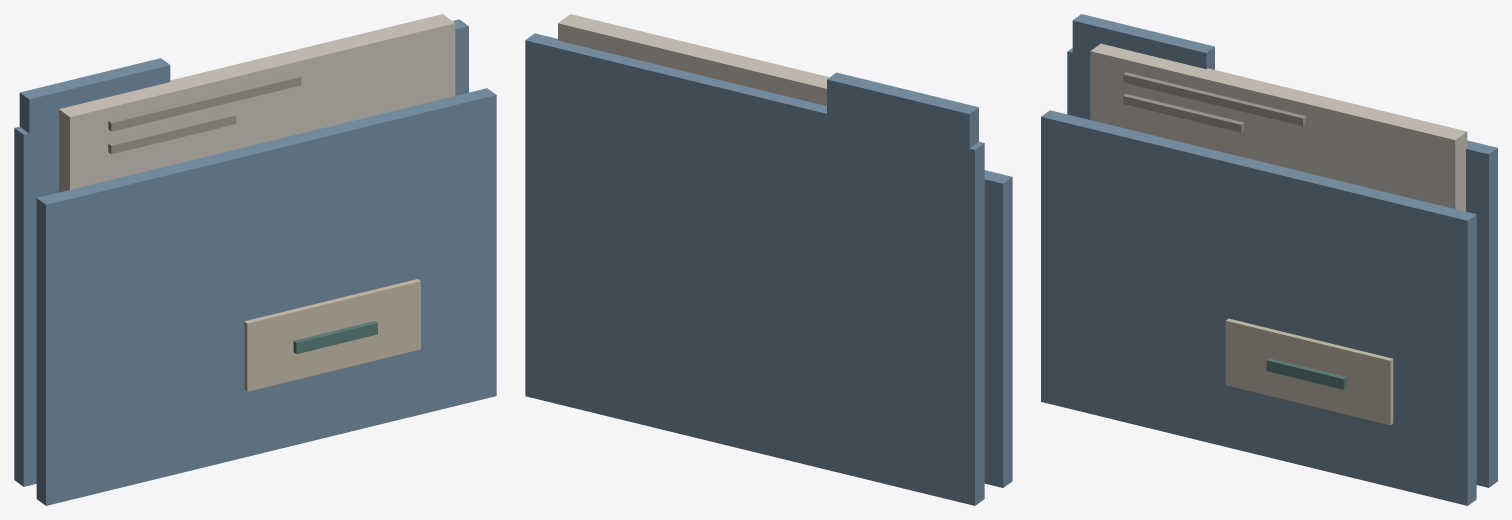
Rendered from komachi-folder.glb.
3 views of the same model, side by side, from view 1: azimuth 30°, elevation 25°; view 2: azimuth 150°, elevation 25°; view 3: azimuth 330°, elevation 25° (orthographic). The views are drawn at different scales.
Visible parts, largest first — view 1: Prop_Body; view 2: Prop_Body; view 3: Prop_Body.
Part boxes in pixels (x1,y1,x2,y2): Prop_Body: (14, 14, 496, 505); Prop_Body: (525, 14, 1012, 505); Prop_Body: (1041, 14, 1497, 505).
Bounding box in the file's own units: 0.083 × 0.068 × 0.0129.
